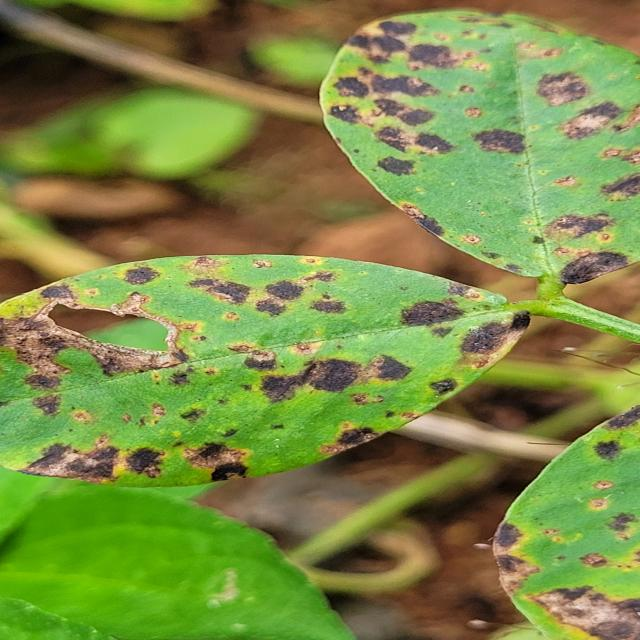Ground nut_tikka leaf spot: (0, 242, 540, 491), (328, 2, 639, 283)
